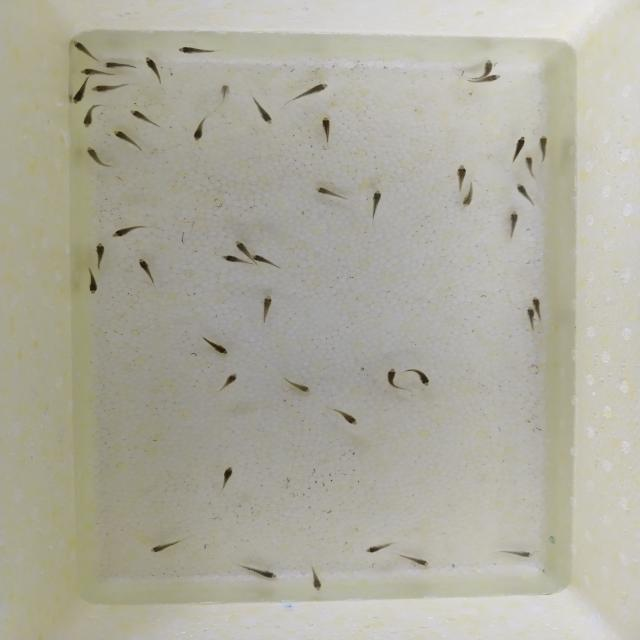fingerling: (323, 404, 368, 428), (288, 80, 333, 103), (235, 562, 283, 583), (196, 333, 234, 358), (360, 536, 406, 556), (278, 372, 315, 396), (248, 95, 276, 126), (109, 128, 143, 153), (302, 563, 327, 597), (407, 362, 435, 391), (255, 291, 278, 326), (308, 182, 348, 202), (145, 537, 187, 556), (367, 186, 388, 222), (214, 368, 243, 394), (215, 462, 238, 493), (492, 544, 536, 560), (379, 363, 404, 391), (188, 116, 210, 146), (504, 208, 524, 241), (142, 56, 166, 83), (315, 113, 336, 143), (172, 44, 220, 57), (513, 182, 537, 208), (128, 108, 158, 128), (68, 80, 90, 107), (507, 131, 529, 158), (212, 81, 236, 105), (80, 104, 102, 130), (138, 254, 157, 284), (70, 39, 97, 60), (532, 132, 552, 160), (398, 554, 438, 568), (83, 146, 108, 168), (108, 225, 140, 241), (92, 238, 109, 268), (86, 269, 102, 300), (459, 189, 479, 211), (90, 83, 129, 94), (452, 161, 467, 189), (522, 156, 538, 182), (217, 254, 251, 266), (468, 74, 505, 85), (232, 238, 253, 255), (100, 61, 138, 70), (253, 254, 279, 267), (78, 68, 109, 78), (531, 295, 545, 317), (522, 307, 534, 332), (481, 60, 495, 74)
